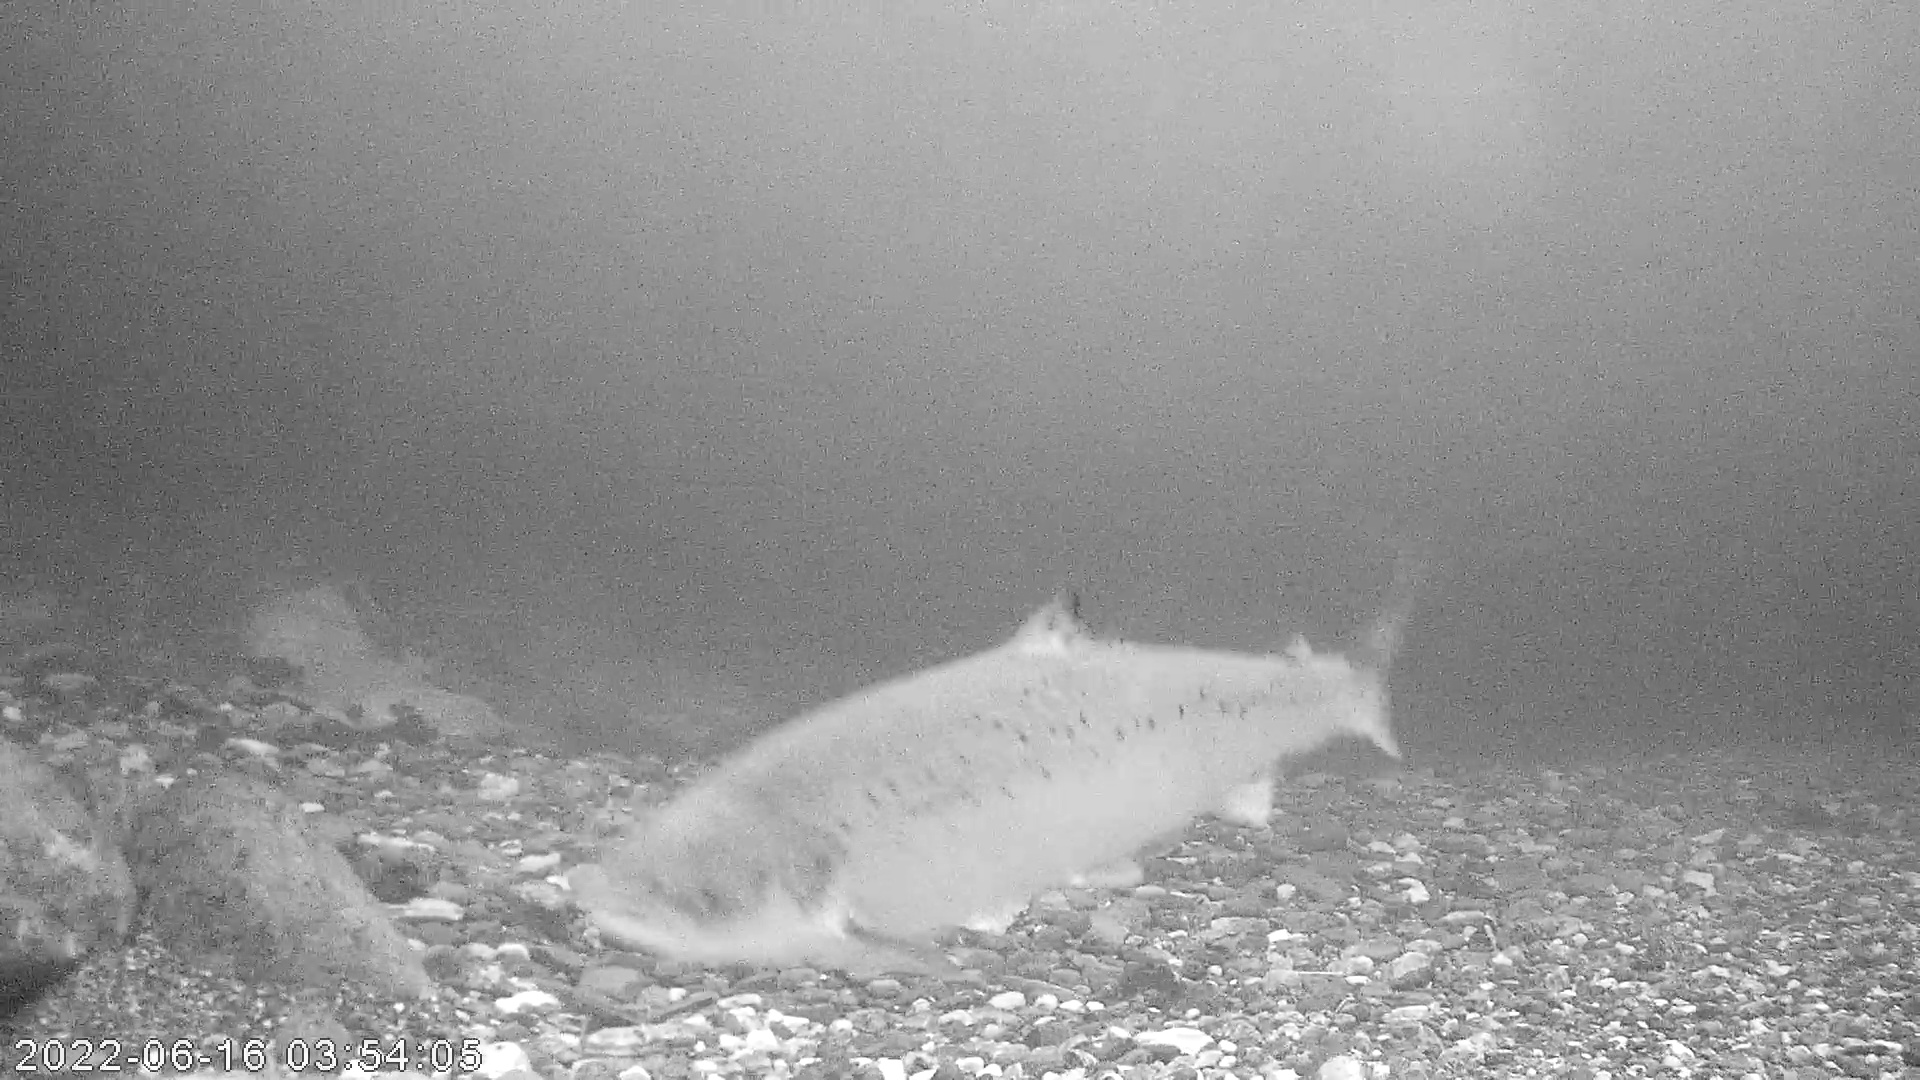salmon: (580, 588, 1408, 978)
